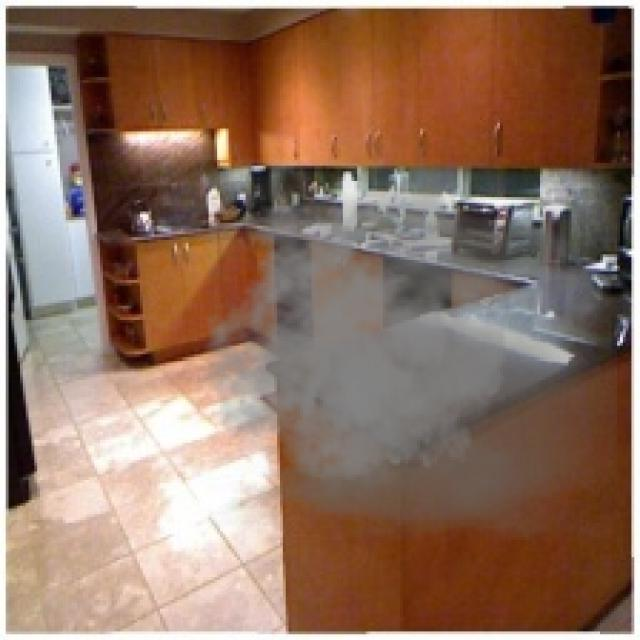Smoke: (194, 165, 617, 540)
